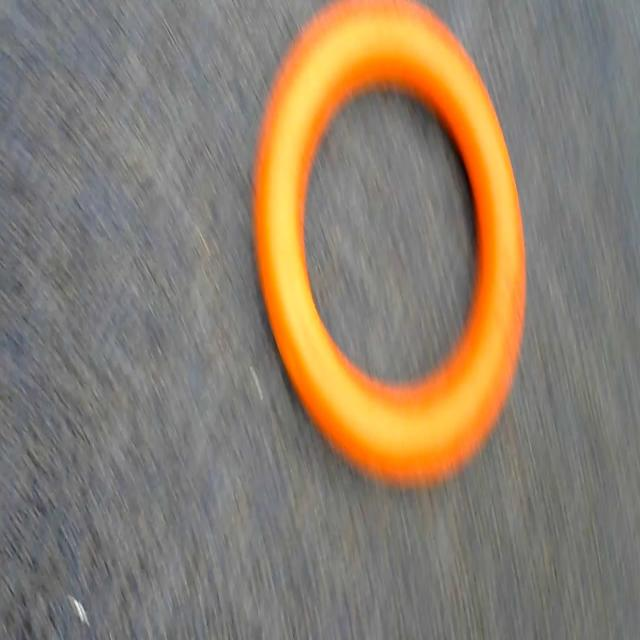note: (232, 1, 537, 503)
